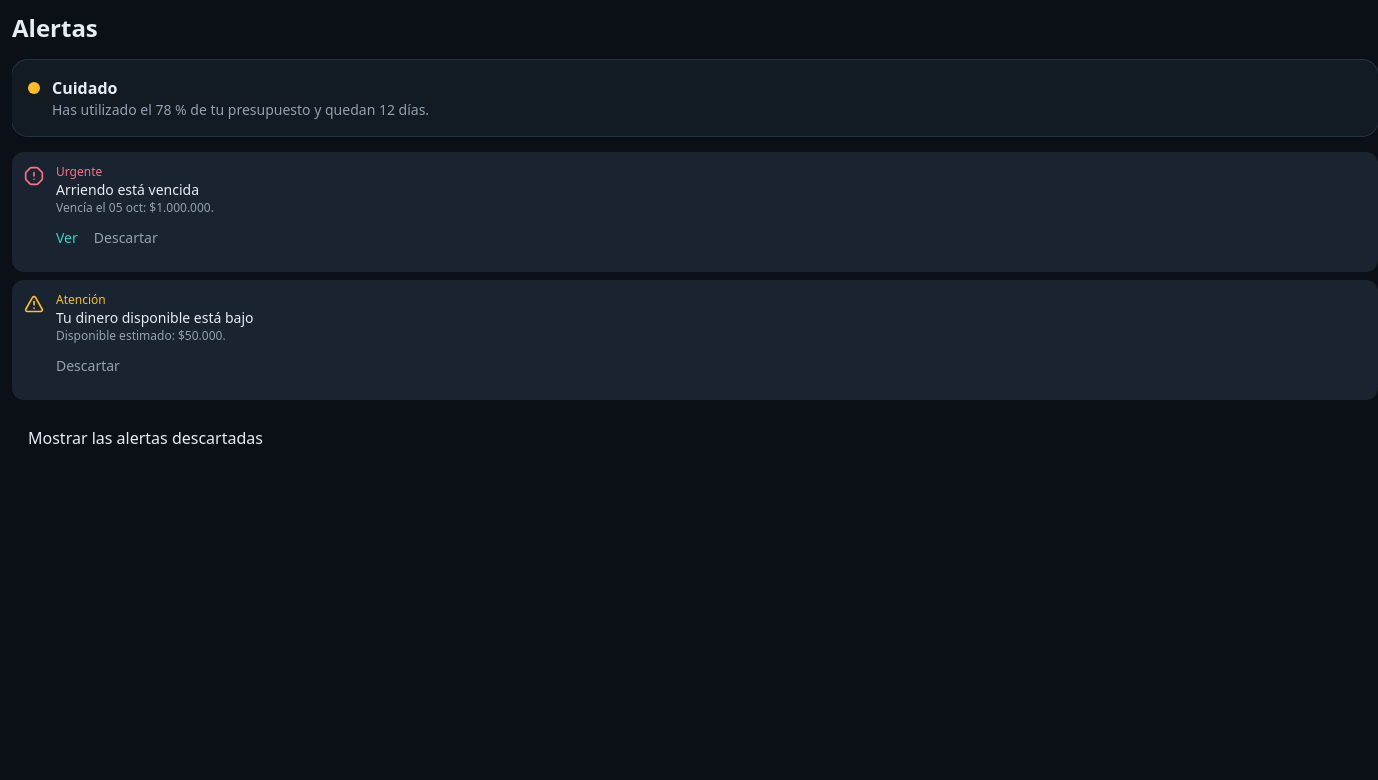
Scenario: AlertsPage (spec 8.12) › shows the error when restoring fails
The width and height of the screenshot is (1378, 780).
Click the button "Mostrar las alertas descartadas".
click(145, 438)  # box [12,416,279,460]
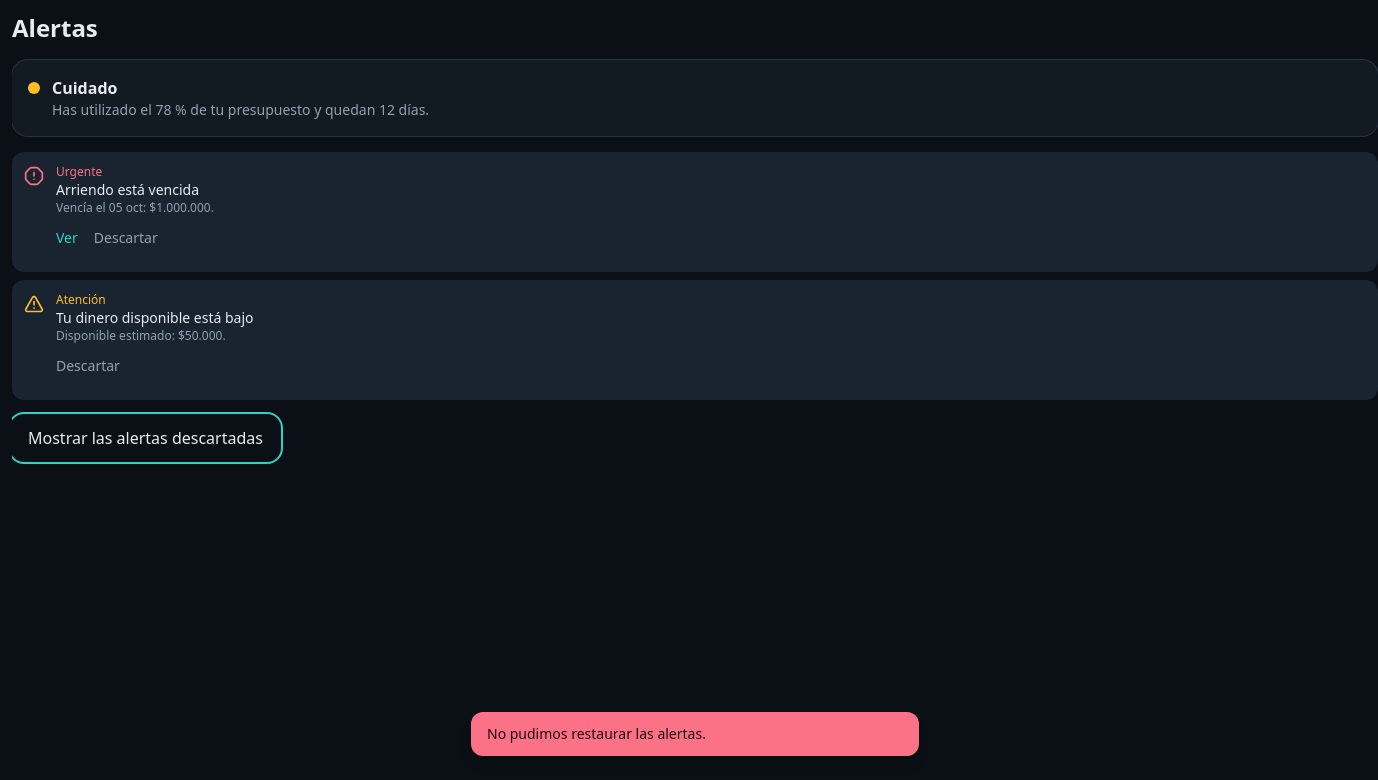
Result: the text "No pudimos restaurar las alertas." is shown at [471,712,919,756]
